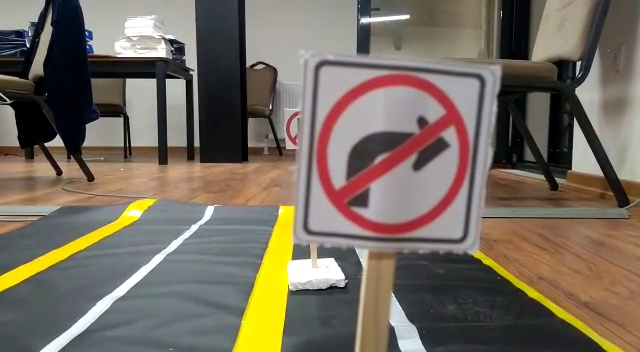saga_donulmez: (312, 64, 472, 239)
